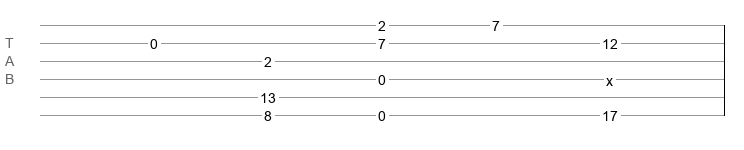0: (150, 36, 158, 46), (378, 108, 386, 118), (378, 72, 386, 82)
12: (602, 36, 618, 46)
13: (260, 90, 276, 100)
17: (602, 108, 618, 118)
2: (264, 54, 272, 64), (378, 18, 386, 28)
7: (378, 36, 386, 46), (492, 18, 500, 28)
8: (264, 108, 272, 118)
x: (606, 73, 613, 81)
